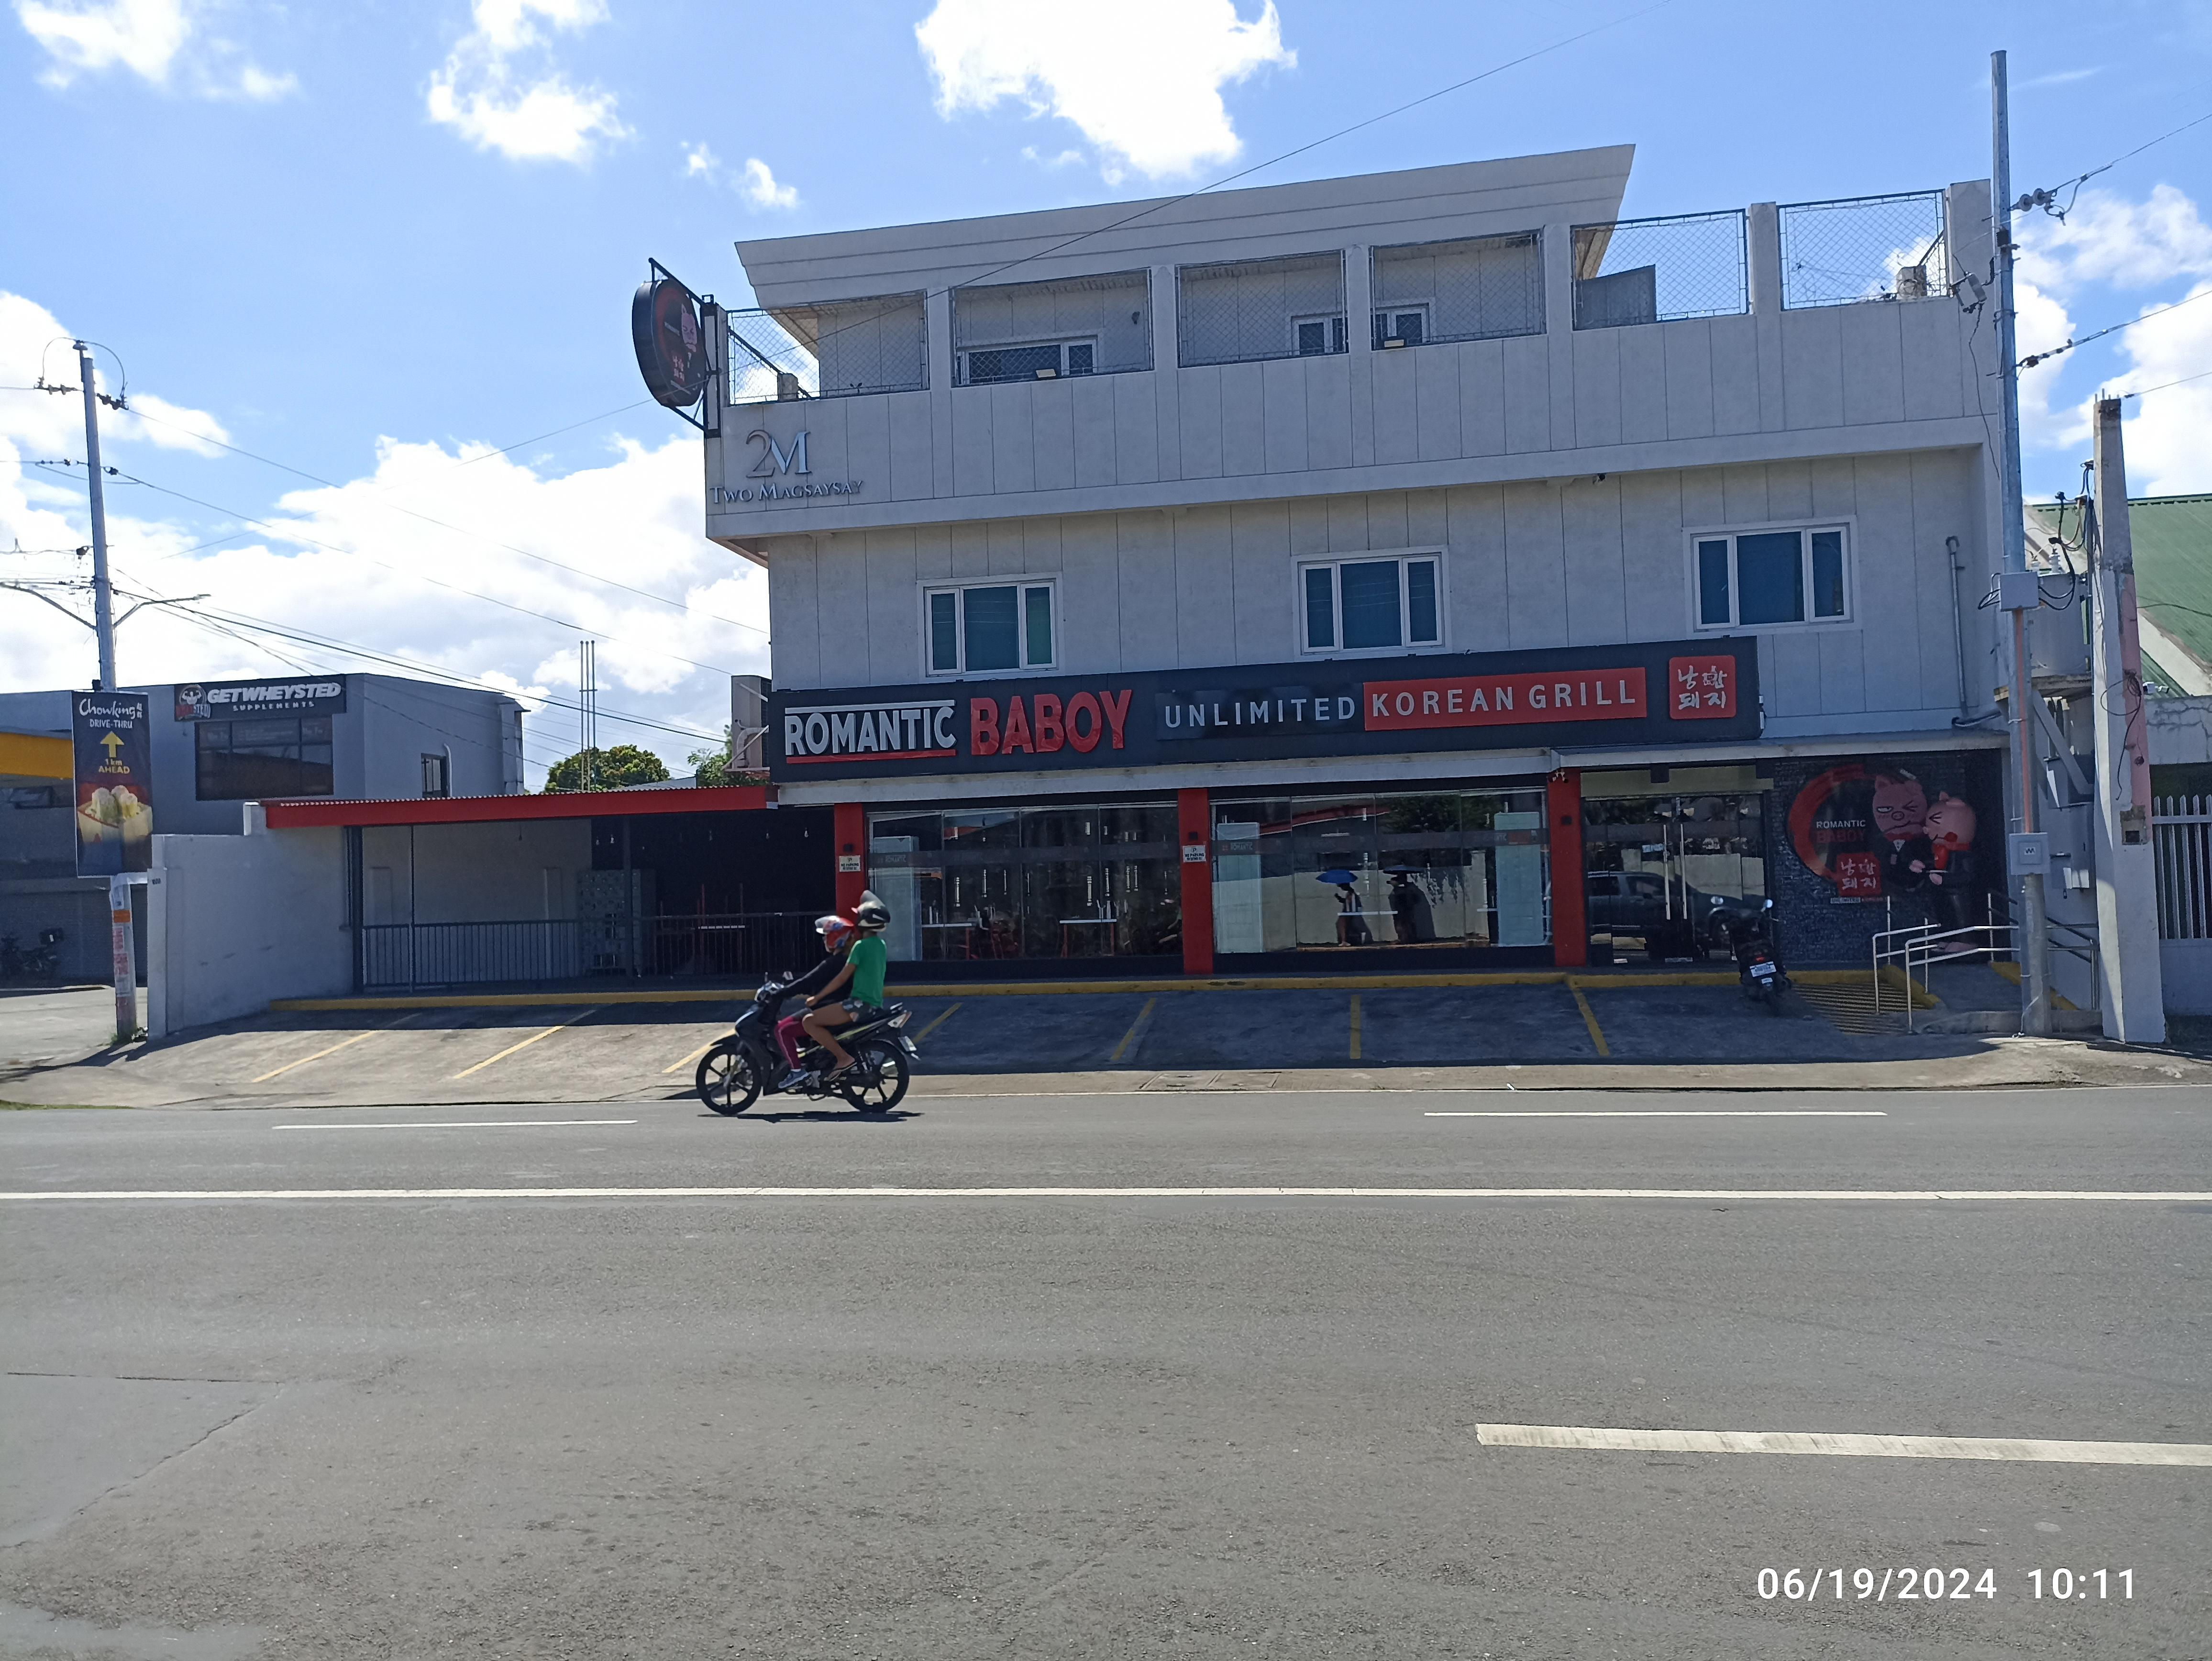vacant: (246, 993, 633, 1082), (459, 991, 794, 1073), (886, 981, 1167, 1063), (1350, 974, 1610, 1059), (1109, 977, 1361, 1061)
